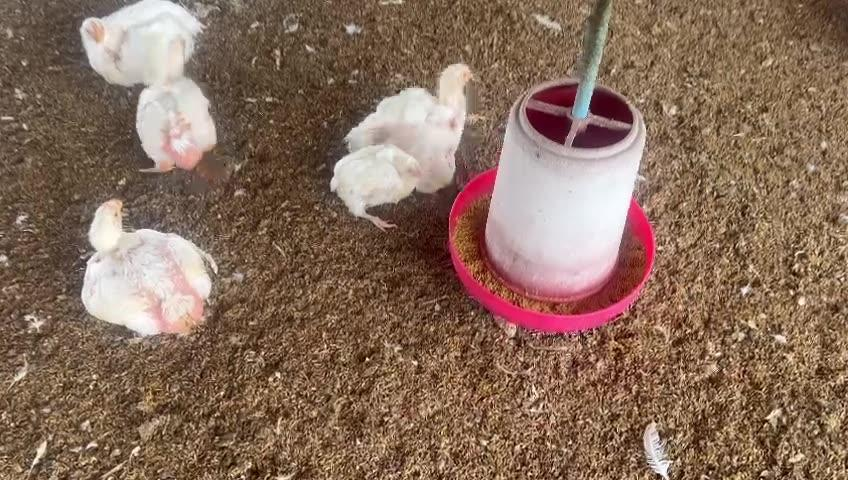AbNormal: (81, 197, 213, 339), (340, 59, 475, 187), (326, 148, 422, 235)
Normal: (134, 37, 216, 173), (79, 0, 200, 87)
